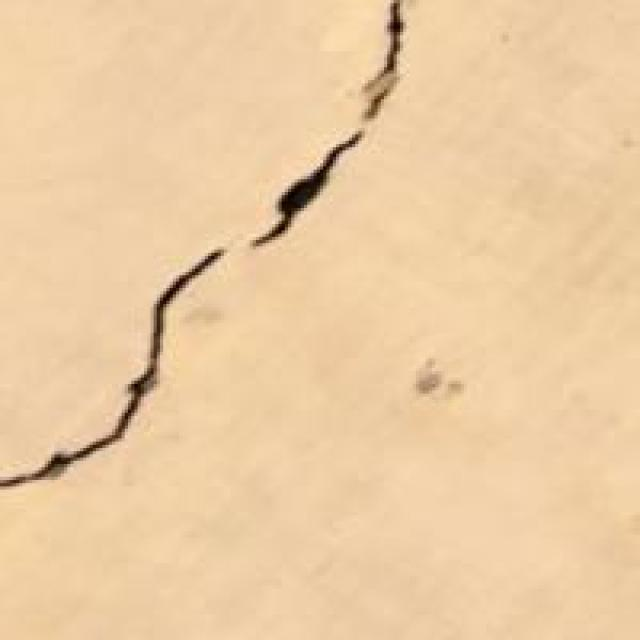crack: (6, 0, 432, 573)
